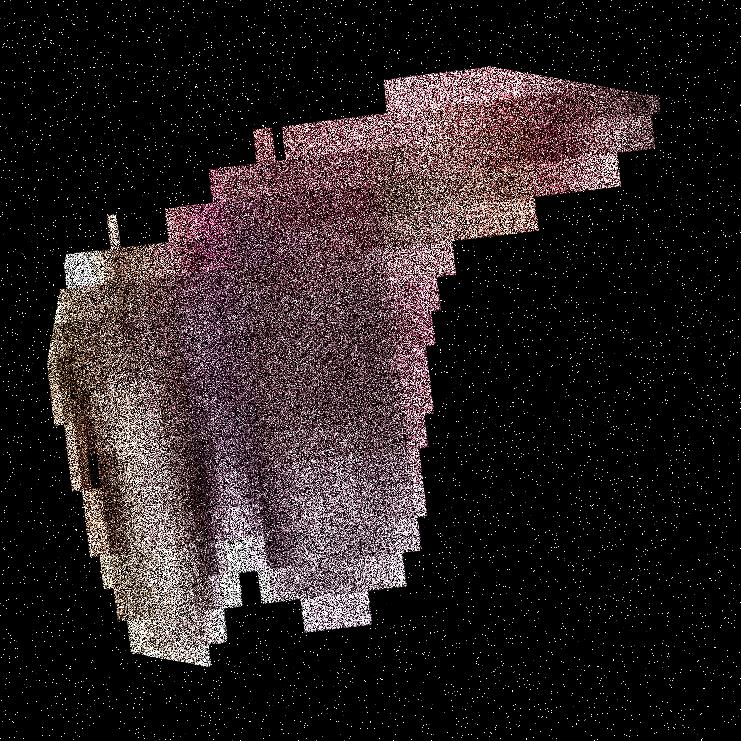Oculos: (166, 0, 401, 740)
